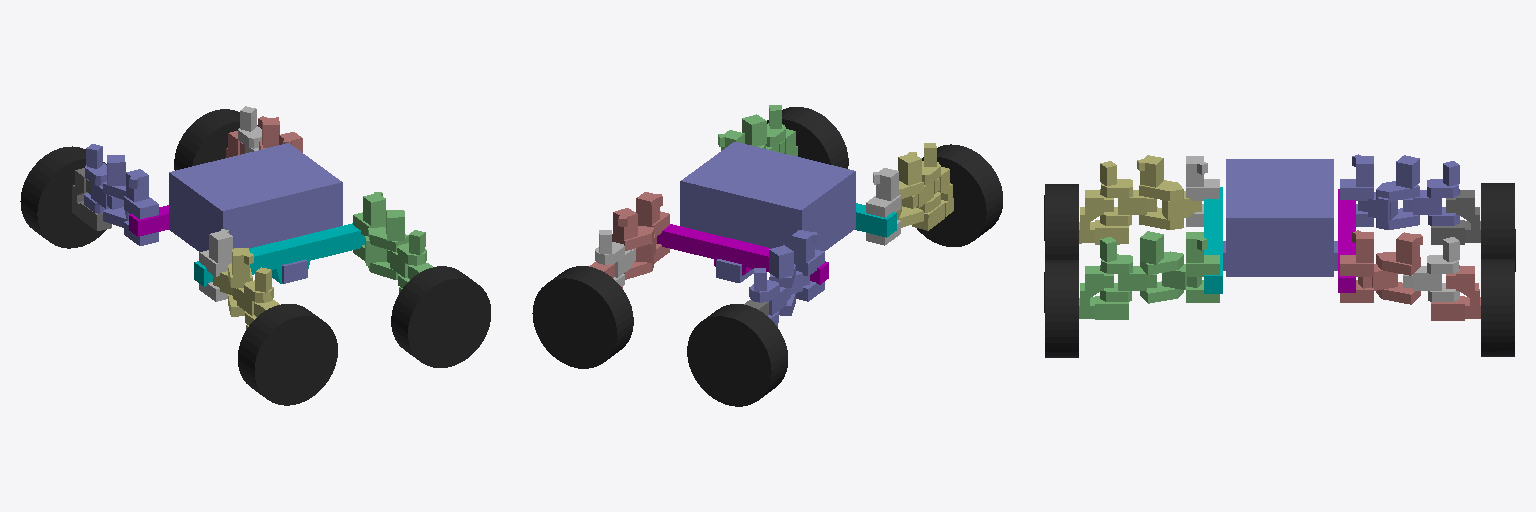
--- What the picture shows (computed from the rendered views, not written in the file) ---
3 views of the same robot in one strip: view 1: azimuth 30°, elevation 25°; view 2: azimuth 150°, elevation 25°; view 3: azimuth 270°, elevation 25° (orthographic).
Model rover_assembly with 24 links and 23 joints (12 revolute, 4 continuous, 7 fixed), rooted at world, posed every joint at zero.
Links seen in each view (by area): view 1: base, br_wheel_link, fr_wheel_link, bl_wheel_link, r_bogie_link, fl_wheel_link, fr_elbow_link, bl_shoulder_link, bl_wrist_link, br_shoulder_link, br_elbow_link, bl_elbow_link (+7 smaller); view 2: base, fl_wheel_link, bl_wheel_link, br_wheel_link, l_bogie_link, fr_wheel_link, fl_elbow_link, br_shoulder_link, bl_shoulder_link, bl_elbow_link, br_elbow_link, br_wrist_link (+7 smaller); view 3: base, fr_wheel_link, fl_wheel_link, br_elbow_link, br_wheel_link, bl_wheel_link, bl_elbow_link, fl_elbow_link, fr_elbow_link, fr_wrist_link, fl_wrist_link, br_wrist_link (+11 smaller).
Boxes of the visible links, x1,y1,x2,y2 form: base: (169,143,342,283); br_wheel_link: (238,304,337,405); fr_wheel_link: (391,266,490,367); bl_wheel_link: (20,146,106,248); r_bogie_link: (194,223,364,286); fl_wheel_link: (174,109,261,170); fr_elbow_link: (365,210,408,279); bl_shoulder_link: (124,169,158,245); bl_wrist_link: (84,144,123,213); br_shoulder_link: (199,229,232,301); br_elbow_link: (213,248,253,316); bl_elbow_link: (103,155,129,227); base: (680,142,855,282); fl_wheel_link: (532,266,633,368); bl_wheel_link: (687,304,787,406); br_wheel_link: (917,144,1002,246); l_bogie_link: (657,224,828,284); fr_wheel_link: (767,107,848,168); fl_elbow_link: (612,208,656,279); br_shoulder_link: (866,168,900,245); bl_shoulder_link: (791,230,824,301); bl_elbow_link: (769,245,809,315); br_elbow_link: (896,152,923,227); br_wrist_link: (902,143,940,212); base: (1223,159,1337,276); fr_wheel_link: (1044,260,1078,357); fl_wheel_link: (1481,259,1514,356); br_elbow_link: (1137,155,1201,229); br_wheel_link: (1044,184,1078,259); bl_wheel_link: (1481,183,1515,271); bl_elbow_link: (1358,155,1419,229); fl_elbow_link: (1358,232,1422,304); fr_elbow_link: (1140,231,1201,303); fr_wrist_link: (1100,237,1156,301); fl_wrist_link: (1403,237,1459,301); br_wrist_link: (1100,161,1156,225).
Bounding box of the posed robot: 0.9567 × 1.61 × 0.4738 m (x, y, z).
Meshes: 9 distinct files referenced, 23 mesh visuals loaded (9 binary STL).

The robot description file, URDF, robot "rover_assembly":
<?xml version="1.0" encoding="utf-8"?>
<!-- This URDF was automatically created by SolidWorks to URDF Exporter! Originally created by Stephen Brawner ([email redacted]) 
     Commit Version: 1.6.0-4-g7f85cfe  Build Version: 1.6.7995.38578
     For more information, please see http://wiki.ros.org/sw_urdf_exporter -->
<robot
  name="rover_assembly">
<link name="world"/>
  
   <joint name="world_base" type="fixed">
     <parent link="world"/>
     <child link="base"/>
     <origin rpy="0 0 0 " xyz="0.0 0.0 0.4"/>
   </joint> 
  <link
    name="base">
    <!-- <inertial> -->
      <origin
        xyz="-0.0050083 -2.0149E-05 -0.053451"
        rpy="0 0 0" />
      <mass
        value="4.5781" />
      <inertia
        ixx="0.038674"
        ixy="5.9776E-10"
        ixz="2.4096E-06"
        iyy="0.020715"
        iyz="-1.8275E-09"
        izz="0.054978" />
    <!-- </inertial> -->
    <visual>
      <origin
        xyz="0 0 0"
        rpy="0 0 0" />
      <geometry>
        <mesh
          filename="package://crawlr_description/meshes/base.STL" />
      </geometry>
      <material
        name="">
        <color
          rgba="0.5 0.5 0.75294 1" />
      </material>
    </visual>
    <collision>
      <origin
        xyz="0 0 0"
        rpy="0 0 0" />
      <geometry>
        <mesh
          filename="package://crawlr_description/meshes/base.STL" />
      </geometry>
    </collision>
  </link>
  <link
    name="l_bogie_link">
    <inertial>
      <origin
        xyz="3.3598E-06 -0.077499 0.016649"
        rpy="0 0 0" />
      <mass
        value="2.8349" />
      <inertia
        ixx="0.0026191"
        ixy="7.2171E-08"
        ixz="4.7117E-08"
        iyy="0.071285"
        iyz="-2.6638E-06"
        izz="0.07224" />
    </inertial>
    <visual>
      <origin
        xyz="0 0 0"
        rpy="0 0 0" />
      <geometry>
        <mesh
          filename="package://crawlr_description/meshes/l_bogie_link.STL" />
      </geometry>
      <material
        name="">
        <color
          rgba="0.75294 0 0.75294 1" />
      </material>
    </visual>
    <collision>
      <origin
        xyz="0 0 0"
        rpy="0 0 0" />
      <geometry>
        <mesh
          filename="package://crawlr_description/meshes/l_bogie_link.STL" />
      </geometry>
    </collision>
  </link>
  <joint
    name="l_base_joint"
    type="fixed">
    <origin
      xyz="0 0.20935 -0.1481"
      rpy="-1.5708 0 0" />
    <parent
      link="base" />
    <child
      link="l_bogie_link" />
    <axis
      xyz="0 0 0" />
    <limit
      lower="0"
      upper="0"
      effort="0"
      velocity="0" />
  </joint>
  <link
    name="fl_shoulder_link">
    <inertial>
      <origin
        xyz="-0.010937 9.135E-05 0.059437"
        rpy="0 0 0" />
      <mass
        value="1.9065" />
      <inertia
        ixx="0.0012855"
        ixy="5.6505E-06"
        ixz="-1.3808E-06"
        iyy="0.0013531"
        iyz="9.6822E-07"
        izz="0.0014564" />
    </inertial>
    <visual>
      <origin
        xyz="0 0 0"
        rpy="0 0 0" />
      <geometry>
        <mesh
          filename="package://crawlr_description/meshes/shoulder_link.STL" />
      </geometry>
      <material
        name="">
        <color
          rgba="0.75294 0.5 0.5 1" />
      </material>
    </visual>
    <collision>
      <origin
        xyz="0 0 0"
        rpy="0 0 0" />
      <geometry>
        <mesh
          filename="package://crawlr_description/meshes/shoulder_link.STL" />
      </geometry>
    </collision>
  </link>
  <joint
    name="fl_bogie_joint"
    type="fixed">
    <origin
      xyz="0.3069 -0.06175 0.081"
      rpy="1.5708 -1.5708 0" />
    <parent
      link="l_bogie_link" />
    <child
      link="fl_shoulder_link" />
    <axis
      xyz="0 0 0" />
  </joint>
  <link
    name="fl_elbow_link">
    <inertial>
      <origin
        xyz="0.11588 0.008896 0.029833"
        rpy="0 0 0" />
      <mass
        value="2.4303" />
      <inertia
        ixx="0.0015624"
        ixy="8.7889E-05"
        ixz="1.313E-06"
        iyy="0.0017596"
        iyz="4.7085E-07"
        izz="0.001894" />
    </inertial>
    <visual>
      <origin
        xyz="0 0 0"
        rpy="0 0 0" />
      <geometry>
        <mesh
          filename="package://crawlr_description/meshes/elbow_link_br_fl.STL" />
      </geometry>
      <material
        name="">
        <color
          rgba="0.75294 0.5 0.5 1" />
      </material>
    </visual>
    <collision>
      <origin
        xyz="0.001 0 0"
        rpy="0 0 0" />
      <geometry>
        <mesh
          filename="package://crawlr_description/meshes/elbow_link_br_fl.STL" />
      </geometry>
    </collision>
  </link>
  <joint
    name="fl_shoulder_joint"
    type="revolute">
    <origin
      xyz="0 0 0"
      rpy="0 0 0" />
    <parent
      link="fl_shoulder_link" />
    <child
      link="fl_elbow_link" />
    <axis
      xyz="0 0 1" />
    <limit
      lower="-3.1415"
      upper="3.1415"
      effort="100"
      velocity="1300" />
  </joint>
  <link
    name="fl_wrist_link">
    <inertial>
      <origin
        xyz="0.106490210749518 0.000186854919416335 0.0418635367506254"
        rpy="0 0 0" />
      <mass
        value="1.65982904359117" />
      <inertia
        ixx="0.000936027651453804"
        ixy="-3.13677263034653E-06"
        ixz="-1.37429223301743E-05"
        iyy="0.00092500461674148"
        iyz="-5.13687277242434E-07"
        izz="0.00105495924116808" />
    </inertial>
    <visual>
      <origin
        xyz="0 0 0"
        rpy="0 0 0" />
      <geometry>
        <mesh
          filename="package://crawlr_description/meshes/wrist_link.STL" />
      </geometry>
      <material
        name="">
        <color
          rgba="0.752941176470588 0.752941176470588 0.752941176470588 1" />
      </material>
    </visual>
    <collision>
      <origin
        xyz="0 0 0"
        rpy="0 0 0" />
      <geometry>
        <mesh
          filename="package://crawlr_description/meshes/wrist_link.STL" />
      </geometry>
    </collision>
  </link>
  <joint
    name="fl_elbow_joint"
    type="revolute">
    <origin
      xyz="0.14704 0 0"
      rpy="0 0 0" />
    <parent
      link="fl_elbow_link" />
    <child
      link="fl_wrist_link" />
    <axis
      xyz="0 0 1" />
    <limit
      lower="-3.1415"
      upper="3.1415"
      effort="100"
      velocity="1300" />
  </joint>
  <link
    name="fl_hand_link">
    <inertial>
      <origin
        xyz="0.034849 -0.00010605 -0.084186"
        rpy="0 0 0" />
      <mass
        value="2.3674" />
      <inertia
        ixx="0.0012901"
        ixy="1.2682E-06"
        ixz="5.552E-05"
        iyy="0.0013835"
        iyz="-5.9325E-06"
        izz="0.0011948" />
    </inertial>
    <visual>
      <origin
        xyz="0 0 0"
        rpy="0 0 0" />
      <geometry>
        <mesh
          filename="package://crawlr_description/meshes/hand_link.STL" />
      </geometry>
      <material
        name="">
        <color
          rgba="0.75294 0.5 0.5 1" />
      </material>
    </visual>
    <collision>
      <origin
        xyz="0 0 0"
        rpy="0 0 0" />
      <geometry>
        <mesh
          filename="package://crawlr_description/meshes/hand_link.STL" />
      </geometry>
    </collision>
  </link>
  <joint
    name="fl_wrist_joint"
    type="revolute">
    <origin
      xyz="0.14655 0 0"
      rpy="0 0 0" />
    <parent
      link="fl_wrist_link" />
    <child
      link="fl_hand_link" />
    <axis
      xyz="0 0 1" />
    <limit
      lower="-3.1415"
      upper="3.14"
      effort="100"
      velocity="1300" />
  </joint>
  <link
    name="fl_wheel_link">
    <inertial>
      <origin
        xyz="0.016725 -0.6138 1.4888"
        rpy="0 0 0" />
      <mass
        value="3.5001" />
      <inertia
        ixx="0.028476"
        ixy="1.4496E-14"
        ixz="-2.7765E-11"
        iyy="0.028476"
        iyz="7.9856E-11"
        izz="0.050581" />
    </inertial>
    <visual>
      <origin
        xyz="0 0 0"
        rpy="0 0 0" />
      <geometry>
        <mesh
          filename="package://crawlr_description/meshes/wheel_link.STL" />
      </geometry>
      <material
        name="">
        <color
          rgba="0.2 0.2 0.2 1" />
      </material>
    </visual>
    <collision>
      <origin
        xyz="0 0 0"
        rpy="0 0 0" />
      <geometry>
        <mesh
          filename="package://crawlr_description/meshes/wheel_link.STL" />
      </geometry>
    </collision>
  </link>
  <joint
    name="fl_hand_joint"
    type="continuous">
    <origin
      xyz="0.16086 0 -0.111"
      rpy="0 1.5707 0" />
    <parent
      link="fl_hand_link" />
    <child
      link="fl_wheel_link" />
    <axis
      xyz="0 0 1" />
    <limit
      effort="0"
      velocity="4000" />
  </joint>
  <link
    name="bl_shoulder_link">
    <inertial>
      <origin
        xyz="-0.010942 9.135E-05 0.059436"
        rpy="0 0 0" />
      <mass
        value="1.9065" />
      <inertia
        ixx="0.0012855"
        ixy="5.6504E-06"
        ixz="-1.397E-06"
        iyy="0.0013531"
        iyz="9.6876E-07"
        izz="0.0014564" />
    </inertial>
    <visual>
      <origin
        xyz="0 0 0"
        rpy="0 0 0" />
      <geometry>
        <mesh
          filename="package://crawlr_description/meshes/shoulder_link.STL" />
      </geometry>
      <material
        name="">
        <color
          rgba="0.5 0.5 0.75294 1" />
      </material>
    </visual>
    <collision>
      <origin
        xyz="0 0 0"
        rpy="0 0 0" />
      <geometry>
        <mesh
          filename="package://crawlr_description/meshes/shoulder_link.STL" />
      </geometry>
    </collision>
  </link>
  <joint
    name="bl_bogie_joint"
    type="fixed">
    <origin
      xyz="-0.3069 -0.06175 0.081"
      rpy="0 -1.5707 1.5708" />
    <parent
      link="l_bogie_link" />
    <child
      link="bl_shoulder_link" />
    <axis
      xyz="0 0 0" />
  </joint>
  <link
    name="bl_elbow_link">
    <inertial>
      <origin
        xyz="0.1159 -0.0089217 0.046898"
        rpy="0 0 0" />
      <mass
        value="2.4303" />
      <inertia
        ixx="0.0015632"
        ixy="-8.7077E-05"
        ixz="1.1741E-06"
        iyy="0.0017587"
        iyz="-7.1639E-07"
        izz="0.001894" />
    </inertial>
    <visual>
      <origin
        xyz="0 0 0"
        rpy="0 0 0" />
      <geometry>
        <mesh
          filename="package://crawlr_description/meshes/elbow_link_bl_fr.STL" />
      </geometry>
      <material
        name="">
        <color
          rgba="0.5 0.5 0.75294 1" />
      </material>
    </visual>
    <collision>
      <origin
        xyz="0 0 0"
        rpy="0 0 0" />
      <geometry>
        <mesh
          filename="package://crawlr_description/meshes/elbow_link_bl_fr.STL" />
      </geometry>
    </collision>
  </link>
  <joint
    name="bl_shoulder_joint"
    type="revolute">
    <origin
      xyz="0 0 0"
      rpy="0 0 0" />
    <parent
      link="bl_shoulder_link" />
    <child
      link="bl_elbow_link" />
    <axis
      xyz="0 0 1" />
    <limit
      lower="-3.1415"
      upper="3.14"
      effort="100"
      velocity="1300" />
  </joint>
  <link
    name="bl_wrist_link">
    <inertial>
      <origin
        xyz="0.11054 0.00018685 0.02956"
        rpy="0 0 0" />
      <mass
        value="1.6598" />
      <inertia
        ixx="0.00093446"
        ixy="-3.1747E-06"
        ixz="-3.6605E-08"
        iyy="0.000925"
        iyz="-1.5589E-07"
        izz="0.0010565" />
    </inertial>
    <visual>
      <origin
        xyz="0 0 0"
        rpy="0 0 0" />
      <geometry>
        <mesh
          filename="package://crawlr_description/meshes/wrist_link.STL" />
      </geometry>
      <material
        name="">
        <color
          rgba="0.5 0.5 0.75294 1" />
      </material>
    </visual>
    <collision>
      <origin
        xyz="0 0 0"
        rpy="0 0 0" />
      <geometry>
        <mesh
          filename="package://crawlr_description/meshes/wrist_link.STL" />
      </geometry>
    </collision>
  </link>
  <joint
    name="bl_elbow_joint"
    type="revolute">
    <origin
      xyz="0.14704 0 0"
      rpy="0 0 0" />
    <parent
      link="bl_elbow_link" />
    <child
      link="bl_wrist_link" />
    <axis
      xyz="0 0 1" />
    <limit
      lower="-3.1415"
      upper="3.1415"
      effort="100"
      velocity="1300" />
  </joint>
  <link
    name="bl_hand_link">
    <inertial>
      <origin
        xyz="0.034849 -0.00010605 -0.084186"
        rpy="0 0 0" />
      <mass
        value="2.3674" />
      <inertia
        ixx="0.0012901"
        ixy="1.2682E-06"
        ixz="5.552E-05"
        iyy="0.0013835"
        iyz="-5.9325E-06"
        izz="0.0011948" />
    </inertial>
    <visual>
      <origin
        xyz="0 0 0"
        rpy="0 0 0" />
      <geometry>
        <mesh
          filename="package://crawlr_description/meshes/hand_link.STL" />
      </geometry>
      <material
        name="">
        <color
          rgba="0.5 0.5 0.5 1" />
      </material>
    </visual>
    <collision>
      <origin
        xyz="0 0 0"
        rpy="0 0 0" />
      <geometry>
        <mesh
          filename="package://crawlr_description/meshes/hand_link.STL" />
      </geometry>
    </collision>
  </link>
  <joint
    name="bl_wrist_joint"
    type="revolute">
    <origin
      xyz="0.1475 0 0"
      rpy="0 0 0" />
    <parent
      link="bl_wrist_link" />
    <child
      link="bl_hand_link" />
    <axis
      xyz="0 0 1" />
    <limit
      lower="-3.1415"
      upper="3.14"
      effort="100"
      velocity="1300" />
  </joint>
  <link
    name="bl_wheel_link">
    <inertial>
      <origin
        xyz="-7.8813E-11 9.7847E-11 -0.00089592"
        rpy="0 0 0" />
      <mass
        value="3.5001" />
      <inertia
        ixx="0.028476"
        ixy="1.3227E-14"
        ixz="-7.0655E-11"
        iyy="0.028476"
        iyz="-4.3974E-11"
        izz="0.050581" />
    </inertial>
    <visual>
      <origin
        xyz="0 0 0"
        rpy="0 0 0" />
      <geometry>
        <mesh
          filename="package://crawlr_description/meshes/wheel_link.STL" />
      </geometry>
      <material
        name="">
        <color
          rgba="0.2 0.2 0.2 1" />
      </material>
    </visual>
    <collision>
      <origin
        xyz="0 0 0"
        rpy="0 0 0" />
      <geometry>
        <mesh
          filename="package://crawlr_description/meshes/wheel_link.STL" />
      </geometry>
    </collision>
  </link>
  <joint
    name="bl_hand_joint"
    type="continuous">
    <origin
      xyz="0.16086 0 -0.111"
      rpy="0 1.5707 0" />
    <parent
      link="bl_hand_link" />
    <child
      link="bl_wheel_link" />
    <axis
      xyz="0 0 1" />
    <limit
      effort="0"
      velocity="4000" />
  </joint>
  <link
    name="r_bogie_link">
    <inertial>
      <origin
        xyz="-3.3638E-06 0.077499 0.016649"
        rpy="0 0 0" />
      <mass
        value="2.8349" />
      <inertia
        ixx="0.0026191"
        ixy="7.1709E-08"
        ixz="-4.7077E-08"
        iyy="0.071285"
        iyz="2.6638E-06"
        izz="0.07224" />
    </inertial>
    <visual>
      <origin
        xyz="0 0 0"
        rpy="0 0 0" />
      <geometry>
        <mesh
          filename="package://crawlr_description/meshes/r_bogie_link.STL" />
      </geometry>
      <material
        name="">
        <color
          rgba="0 0.75294 0.75294 1" />
      </material>
    </visual>
    <collision>
      <origin
        xyz="0 0 0"
        rpy="0 0 0" />
      <geometry>
        <mesh
          filename="package://crawlr_description/meshes/r_bogie_link.STL" />
      </geometry>
    </collision>
  </link>
  <joint
    name="r_base_joint"
    type="fixed">
    <origin
      xyz="0 -0.20935 -0.1481"
      rpy="1.5708 0 0" />
    <parent
      link="base" />
    <child
      link="r_bogie_link" />
    <axis
      xyz="0 0 0" />
    <limit
      lower="-3.1415"
      upper="3.1415"
      effort="0"
      velocity="0" />
  </joint>
  <link
    name="fr_shoulder_link">
    <inertial>
      <origin
        xyz="-0.010937 9.135E-05 0.059437"
        rpy="0 0 0" />
      <mass
        value="1.9065" />
      <inertia
        ixx="0.0012855"
        ixy="5.6505E-06"
        ixz="-1.3808E-06"
        iyy="0.0013531"
        iyz="9.6822E-07"
        izz="0.0014564" />
    </inertial>
    <visual>
      <origin
        xyz="0 0 0"
        rpy="0 0 0" />
      <geometry>
        <mesh
          filename="package://crawlr_description/meshes/shoulder_link.STL" />
      </geometry>
      <material
        name="">
        <color
          rgba="0.5 0.75294 0.5 1" />
      </material>
    </visual>
    <collision>
      <origin
        xyz="0 0 0"
        rpy="0 0 0" />
      <geometry>
        <mesh
          filename="package://crawlr_description/meshes/shoulder_link.STL" />
      </geometry>
    </collision>
  </link>
  <joint
    name="fr_bogie_joint"
    type="fixed">
    <origin
      xyz="0.3069 0.06175 0.081"
      rpy="-1.5708 -1.5708 0" />
    <parent
      link="r_bogie_link" />
    <child
      link="fr_shoulder_link" />
    <axis
      xyz="0 0 0" />
  </joint>
  <link
    name="fr_elbow_link">
    <inertial>
      <origin
        xyz="0.11591 -0.0089217 0.046914"
        rpy="0 0 0" />
      <mass
        value="2.4303" />
      <inertia
        ixx="0.0015632"
        ixy="-8.7077E-05"
        ixz="1.2056E-06"
        iyy="0.0017587"
        iyz="-7.081E-07"
        izz="0.001894" />
    </inertial>
    <visual>
      <origin
        xyz="0 0 0"
        rpy="0 0 0" />
      <geometry>
        <mesh
          filename="package://crawlr_description/meshes/elbow_link_bl_fr.STL" />
      </geometry>
      <material
        name="">
        <color
          rgba="0.5 0.75294 0.5 1" />
      </material>
    </visual>
    <collision>
      <origin
        xyz="0 0 0"
        rpy="0 0 0" />
      <geometry>
        <mesh
          filename="package://crawlr_description/meshes/elbow_link_bl_fr.STL" />
      </geometry>
    </collision>
  </link>
  <joint
    name="fr_shoulder_joint"
    type="revolute">
    <origin
      xyz="0 0 0"
      rpy="0 0 0" />
    <parent
      link="fr_shoulder_link" />
    <child
      link="fr_elbow_link" />
    <axis
      xyz="0 0 -1" />
    <limit
      lower="-3.1415"
      upper="3.1415"
      effort="100"
      velocity="1300" />
  </joint>
  <link
    name="fr_wrist_link">
    <inertial>
      <origin
        xyz="0.11054 0.00018685 0.029539"
        rpy="0 0 0" />
      <mass
        value="1.6598" />
      <inertia
        ixx="0.00093446"
        ixy="-3.1748E-06"
        ixz="-1.336E-08"
        iyy="0.000925"
        iyz="-1.5528E-07"
        izz="0.0010565" />
    </inertial>
    <visual>
      <origin
        xyz="0 0 0"
        rpy="0 0 0" />
      <geometry>
        <mesh
          filename="package://crawlr_description/meshes/wrist_link.STL" />
      </geometry>
      <material
        name="">
        <color
          rgba="0.5 0.75294 0.5 1" />
      </material>
    </visual>
    <collision>
      <origin
        xyz="0 0 0"
        rpy="0 0 0" />
      <geometry>
        <mesh
          filename="package://crawlr_description/meshes/wrist_link.STL" />
      </geometry>
    </collision>
  </link>
  <joint
    name="fr_elbow_joint"
    type="revolute">
    <origin
      xyz="0.14704 0 0"
      rpy="0 0 0" />
    <parent
      link="fr_elbow_link" />
    <child
      link="fr_wrist_link" />
    <axis
      xyz="0 0 1" />
    <limit
      lower="-3.1415"
      upper="3.1415"
      effort="100"
      velocity="1300" />
  </joint>
  <link
    name="fr_hand_link">
    <inertial>
      <origin
        xyz="0.034849 -0.00010605 -0.084186"
        rpy="0 0 0" />
      <mass
        value="2.3674" />
      <inertia
        ixx="0.0012901"
        ixy="1.2682E-06"
        ixz="5.552E-05"
        iyy="0.0013835"
        iyz="-5.9325E-06"
        izz="0.0011948" />
    </inertial>
    <visual>
      <origin
        xyz="0 0 0"
        rpy="0 0 0" />
      <geometry>
        <mesh
          filename="package://crawlr_description/meshes/hand_link.STL" />
      </geometry>
      <material
        name="">
        <color
          rgba="0.5 0.75294 0.5 1" />
      </material>
    </visual>
    <collision>
      <origin
        xyz="0 0 0"
        rpy="0 0 0" />
      <geometry>
        <mesh
          filename="package://crawlr_description/meshes/hand_link.STL" />
      </geometry>
    </collision>
  </link>
  <joint
    name="fr_wrist_joint"
    type="revolute">
    <origin
      xyz="0.1475 0 0"
      rpy="0 0 0" />
    <parent
      link="fr_wrist_link" />
    <child
      link="fr_hand_link" />
    <axis
      xyz="0 0 1" />
    <limit
      lower="-3.1415"
      upper="3.14"
      effort="100"
      velocity="1300" />
  </joint>
  <link
    name="fr_wheel_link">
    <inertial>
      <origin
        xyz="1.1459E-10 5.62E-11 -0.0026719"
        rpy="0 0 0" />
      <mass
        value="3.5001" />
      <inertia
        ixx="0.028476"
        ixy="1.4518E-14"
        ixz="-2.7765E-11"
        iyy="0.028476"
        iyz="7.9856E-11"
        izz="0.050581" />
    </inertial>
    <visual>
      <origin
        xyz="0 0 0"
        rpy="0 0 0" />
      <geometry>
        <mesh
          filename="package://crawlr_description/meshes/wheel_link.STL" />
      </geometry>
      <material
        name="">
        <color
          rgba="0.2 0.2 0.2 1" />
      </material>
    </visual>
    <collision>
      <origin
        xyz="0 0 0"
        rpy="0 0 0" />
      <geometry>
        <mesh
          filename="package://crawlr_description/meshes/wheel_link.STL" />
      </geometry>
    </collision>
  </link>
  <joint
    name="fr_hand_joint"
    type="continuous">
    <origin
      xyz="0.16086 0 -0.111"
      rpy="0 1.5707 0" />
    <parent
      link="fr_hand_link" />
    <child
      link="fr_wheel_link" />
    <axis
      xyz="0 0 1" />
    <limit
      effort="0"
      velocity="4000" />
  </joint>
  <link
    name="br_shoulder_link">
    <inertial>
      <origin
        xyz="-0.010931 9.135E-05 0.059438"
        rpy="0 0 0" />
      <mass
        value="1.9065" />
      <inertia
        ixx="0.0012855"
        ixy="5.6506E-06"
        ixz="-1.3645E-06"
        iyy="0.0013531"
        iyz="9.6769E-07"
        izz="0.0014564" />
    </inertial>
    <visual>
      <origin
        xyz="0 0 0"
        rpy="0 0 0" />
      <geometry>
        <mesh
          filename="package://crawlr_description/meshes/shoulder_link.STL" />
      </geometry>
      <material
        name="">
        <color
          rgba="0.75294 0.75294 0.75294 1" />
      </material>
    </visual>
    <collision>
      <origin
        xyz="0 0 0"
        rpy="0 0 0" />
      <geometry>
        <mesh
          filename="package://crawlr_description/meshes/shoulder_link.STL" />
      </geometry>
    </collision>
  </link>
  <joint
    name="br_bogie_joint"
    type="fixed">
    <origin
      xyz="-0.3069 0.06175 0.081"
      rpy="-3.1416 -1.5707 1.5708" />
    <parent
      link="r_bogie_link" />
    <child
      link="br_shoulder_link" />
    <axis
      xyz="0 0 0" />
  </joint>
  <link
    name="br_elbow_link">
    <inertial>
      <origin
        xyz="0.11588 0.008896 0.046547"
        rpy="0 0 0" />
      <mass
        value="2.4303" />
      <inertia
        ixx="0.0015624"
        ixy="8.7889E-05"
        ixz="1.3446E-06"
        iyy="0.0017596"
        iyz="4.6248E-07"
        izz="0.001894" />
    </inertial>
    <visual>
      <origin
        xyz="0 0 0"
        rpy="0 0 0" />
      <geometry>
        <mesh
          filename="package://crawlr_description/meshes/elbow_link_br_fl.STL" />
      </geometry>
      <material
        name="">
        <color
          rgba="0.75294 0.75294 0.5 1" />
      </material>
    </visual>
    <collision>
      <origin
        xyz="0.002 0 0"
        rpy="0 0 0" />
      <geometry>
        <mesh
          filename="package://crawlr_description/meshes/elbow_link_br_fl.STL" />
      </geometry>
    </collision>
  </link>
  <joint
    name="br_shoulder_joint"
    type="revolute">
    <origin
      xyz="0 0 0"
      rpy="0 0 0" />
    <parent
      link="br_shoulder_link" />
    <child
      link="br_elbow_link" />
    <axis
      xyz="0 0 -1" />
    <limit
      lower="-3.1415"
      upper="3.1415"
      effort="100"
      velocity="1300" />
  </joint>
  <link
    name="br_wrist_link">
    <inertial>
      <origin
        xyz="0.11054 0.00018685 0.02956"
        rpy="0 0 0" />
      <mass
        value="1.6598" />
      <inertia
        ixx="0.00093446"
        ixy="-3.1747E-06"
        ixz="-3.6606E-08"
        iyy="0.000925"
        iyz="-1.5589E-07"
        izz="0.0010565" />
    </inertial>
    <visual>
      <origin
        xyz="0 0 0"
        rpy="0 0 0" />
      <geometry>
        <mesh
          filename="package://crawlr_description/meshes/wrist_link.STL" />
      </geometry>
      <material
        name="">
        <color
          rgba="0.75294 0.75294 0.5 1" />
      </material>
    </visual>
    <collision>
      <origin
        xyz="0 0 0"
        rpy="0 0 0" />
      <geometry>
        <mesh
          filename="package://crawlr_description/meshes/wrist_link.STL" />
      </geometry>
    </collision>
  </link>
  <joint
    name="br_elbow_joint"
    type="revolute">
    <origin
      xyz="0.14704 0 0"
      rpy="0 0 0" />
    <parent
      link="br_elbow_link" />
    <child
      link="br_wrist_link" />
    <axis
      xyz="0 0 1" />
    <limit
      lower="-3.1415"
      upper="3.1415"
      effort="100"
      velocity="1300" />
  </joint>
  <link
    name="br_hand_link">
    <inertial>
      <origin
        xyz="0.034849 -0.00010605 -0.084186"
        rpy="0 0 0" />
      <mass
        value="2.3674" />
      <inertia
        ixx="0.0012901"
        ixy="1.2682E-06"
        ixz="5.552E-05"
        iyy="0.0013835"
        iyz="-5.9325E-06"
        izz="0.0011948" />
    </inertial>
    <visual>
      <origin
        xyz="0 0 0"
        rpy="0 0 0" />
      <geometry>
        <mesh
          filename="package://crawlr_description/meshes/hand_link.STL" />
      </geometry>
      <material
        name="">
        <color
          rgba="0.75294 0.75294 0.5 1" />
      </material>
    </visual>
    <collision>
      <origin
        xyz="0 0 0"
        rpy="0 0 0" />
      <geometry>
        <mesh
          filename="package://crawlr_description/meshes/hand_link.STL" />
      </geometry>
    </collision>
  </link>
  <joint
    name="br_wrist_joint"
    type="revolute">
    <origin
      xyz="0.1475 0 0"
      rpy="0 0 0" />
    <parent
      link="br_wrist_link" />
    <child
      link="br_hand_link" />
    <axis
      xyz="0 0 1" />
    <limit
      lower="-3.1415"
      upper="3.14"
      effort="100"
      velocity="1300" />
  </joint>
  <link
    name="br_wheel_link">
    <inertial>
      <origin
        xyz="-5.62E-11 1.1459E-10 -0.0026719"
        rpy="0 0 0" />
      <mass
        value="3.5001" />
      <inertia
        ixx="0.028476"
        ixy="-1.4514E-14"
        ixz="-7.9856E-11"
        iyy="0.028476"
        iyz="-2.7765E-11"
        izz="0.050581" />
    </inertial>
    <visual>
      <origin
        xyz="0 0 0"
        rpy="0 0 0" />
      <geometry>
        <mesh
          filename="package://crawlr_description/meshes/wheel_link.STL" />
      </geometry>
      <material
        name="">
        <color
          rgba="0.2 0.2 0.2 1" />
      </material>
    </visual>
    <collision>
      <origin
        xyz="0 0 0"
        rpy="0 0 0" />
      <geometry>
        <mesh
          filename="package://crawlr_description/meshes/wheel_link.STL" />
      </geometry>
    </collision>
  </link>
  <joint
    name="br_hand_joint"
    type="continuous">
    <origin
      xyz="0.16086 0 -0.111"
      rpy="0 1.5707 0" />
    <parent
      link="br_hand_link" />
    <child
      link="br_wheel_link" />
    <axis
      xyz="0 0 1" />
    <limit
      effort="0"
      velocity="4000" />
  </joint>
  
  
  
  
  
  <transmission name="fl_trans_shoulder_joint">
        <type>transmission_interface/SimpleTransmission</type>
        <joint name="fl_shoulder_joint">
            <hardwareInterface>hardware_interface/PositionJointInterface</hardwareInterface>
            <hardwareInterface>hardware_interface/VelocityJointInterface</hardwareInterface>
        </joint>
        <actuator name="fl_shoulder_joint_motor">
            <hardwareInterface>hardware_interface/PositionJointInterface</hardwareInterface>
            <hardwareInterface>hardware_interface/VelocityJointInterface</hardwareInterface>
            <mechanicalReduction>1</mechanicalReduction>
        </actuator>
    </transmission>
    
    
    
    
    
    <transmission name="fl_trans_elbow_joint">
        <type>transmission_interface/SimpleTransmission</type>
        <joint name="fl_elbow_joint">
            <hardwareInterface>hardware_interface/PositionJointInterface</hardwareInterface>
            <hardwareInterface>hardware_interface/VelocityJointInterface</hardwareInterface>
        </joint>
        <actuator name="fl_elbow_joint_motor">
            <hardwareInterface>hardware_interface/PositionJointInterface</hardwareInterface>
            <hardwareInterface>hardware_interface/VelocityJointInterface</hardwareInterface>
            <mechanicalReduction>1</mechanicalReduction>
        </actuator>
    </transmission>
    
    
    
    
    
    <transmission name="fl_trans_wrist_joint">
        <type>transmission_interface/SimpleTransmission</type>
        <joint name="fl_wrist_joint">
            <hardwareInterface>hardware_interface/PositionJointInterface</hardwareInterface>
            <hardwareInterface>hardware_interface/VelocityJointInterface</hardwareInterface>
        </joint>
        <actuator name="fl_wrist_joint_motor">
            <hardwareInterface>hardware_interface/PositionJointInterface</hardwareInterface>
            <hardwareInterface>hardware_interface/VelocityJointInterface</hardwareInterface>
            <mechanicalReduction>1</mechanicalReduction>
        </actuator>
    </transmission>
    
    
    
    
    
    
    <transmission name="fl_trans_hand_joint">
        <type>transmission_interface/SimpleTransmission</type>
        <joint name="fl_hand_joint">
            <hardwareInterface>hardware_interface/VelocityJointInterface</hardwareInterface>
            <hardwareInterface>hardware_interface/PositionJointInterface</hardwareInterface>
        </joint>
        <actuator name="fl_hand_joint_motor">
            <hardwareInterface>hardware_interface/VelocityJointInterface</hardwareInterface>
            <hardwareInterface>hardware_interface/VelocityJointInterface</hardwareInterface>
            <mechanicalReduction>1</mechanicalReduction>
        </actuator>
    </transmission>
    
    
  <transmission name="fr_trans_shoulder_joint">
        <type>transmission_interface/SimpleTransmission</type>
        <joint name="fr_shoulder_joint">
            <hardwareInterface>hardware_interface/PositionJointInterface</hardwareInterface>
            <hardwareInterface>hardware_interface/VelocityJointInterface</hardwareInterface>
        </joint>
        <actuator name="fr_shoulder_joint_motor">
            <hardwareInterface>hardware_interface/PositionJointInterface</hardwareInterface>
            <hardwareInterface>hardware_interface/VelocityJointInterface</hardwareInterface>
            <mechanicalReduction>1</mechanicalReduction>
        </actuator>
    </transmission>
    
    
    
    
    
    <transmission name="fr_trans_elbow_joint">
        <type>transmission_interface/SimpleTransmission</type>
        <joint name="fr_elbow_joint">
            <hardwareInterface>hardware_interface/PositionJointInterface</hardwareInterface>
            <hardwareInterface>hardware_interface/VelocityJointInterface</hardwareInterface>
        </joint>
        <actuator name="fr_elbow_joint_motor">
            <hardwareInterface>hardware_interface/PositionJointInterface</hardwareInterface>
            <hardwareInterface>hardware_interface/VelocityJointInterface</hardwareInterface>
            <mechanicalReduction>1</mechanicalReduction>
        </actuator>
    </transmission>
    
    
    
    
    
    
    <transmission name="fr_trans_wrist_joint">
        <type>transmission_interface/SimpleTransmission</type>
        <joint name="fr_wrist_joint">
            <hardwareInterface>hardware_interface/PositionJointInterface</hardwareInterface>
            <hardwareInterface>hardware_interface/VelocityJointInterface</hardwareInterface>
        </joint>
        <actuator name="fr_wrist_joint_motor">
            <hardwareInterface>hardware_interface/PositionJointInterface</hardwareInterface>
            <hardwareInterface>hardware_interface/VelocityJointInterface</hardwareInterface>
            <mechanicalReduction>1</mechanicalReduction>
        </actuator>
    </transmission>
    
    
    
    
    
    
    <transmission name="fr_trans_hand_joint">
        <type>transmission_interface/SimpleTransmission</type>
        <joint name="fr_hand_joint">
            <hardwareInterface>hardware_interface/VelocityJointInterface</hardwareInterface>
            <hardwareInterface>hardware_interface/PositionJointInterface</hardwareInterface>
        </joint>
        <actuator name="fr_hand_joint_motor">
            <hardwareInterface>hardware_interface/VelocityJointInterface</hardwareInterface>
            <hardwareInterface>hardware_interface/VelocityJointInterface</hardwareInterface>
            <mechanicalReduction>1</mechanicalReduction>
        </actuator>
    </transmission>



    
    <transmission name="bl_trans_shoulder_joint">
        <type>transmission_interface/SimpleTransmission</type>
        <joint name="bl_shoulder_joint">
            <hardwareInterface>hardware_interface/PositionJointInterface</hardwareInterface>
            <hardwareInterface>hardware_interface/VelocityJointInterface</hardwareInterface>
        </joint>
        <actuator name="bl_shoulder_joint_motor">
            <hardwareInterface>hardware_interface/PositionJointInterface</hardwareInterface>
            <hardwareInterface>hardware_interface/VelocityJointInterface</hardwareInterface>
            <mechanicalReduction>1</mechanicalReduction>
        </actuator>
    </transmission>
    
    
    
    
    
    
    
    
    <transmission name="bl_trans_elbow_joint">
        <type>transmission_interface/SimpleTransmission</type>
        <joint name="bl_elbow_joint">
            <hardwareInterface>hardware_interface/PositionJointInterface</hardwareInterface>
            <hardwareInterface>hardware_interface/VelocityJointInterface</hardwareInterface>
        </joint>
        <actuator name="bl_elbow_joint_motor">
            <hardwareInterface>hardware_interface/PositionJointInterface</hardwareInterface>
            <hardwareInterface>hardware_interface/VelocityJointInterface</hardwareInterface>
            <mechanicalReduction>1</mechanicalReduction>
        </actuator>
    </transmission>
    
    
    
    
    
    <transmission name="bl_trans_wrist_joint">
        <type>transmission_interface/SimpleTransmission</type>
        <joint name="bl_wrist_joint">
            <hardwareInterface>hardware_interface/PositionJointInterface</hardwareInterface>
            <hardwareInterface>hardware_interface/VelocityJointInterface</hardwareInterface>
        </joint>
        <actuator name="bl_wrist_joint_motor">
            <hardwareInterface>hardware_interface/PositionJointInterface</hardwareInterface>
            <hardwareInterface>hardware_interface/VelocityJointInterface</hardwareInterface>
            <mechanicalReduction>1</mechanicalReduction>
        </actuator>
    </transmission>
    
    
    
    
    
    <transmission name="bl_trans_hand_joint">
        <type>transmission_interface/SimpleTransmission</type>
        <joint name="bl_hand_joint">
            <hardwareInterface>hardware_interface/VelocityJointInterface</hardwareInterface>
            <hardwareInterface>hardware_interface/VelocityJointInterface</hardwareInterface>
        </joint>
        <actuator name="bl_hand_joint_motor">
            <hardwareInterface>hardware_interface/VelocityJointInterface</hardwareInterface>
            <hardwareInterface>hardware_interface/VelocityJointInterface</hardwareInterface>
            <mechanicalReduction>1</mechanicalReduction>
        </actuator>
    </transmission>

  
    <transmission name="br_trans_shoulder_joint">
        <type>transmission_interface/SimpleTransmission</type>
        <joint name="br_shoulder_joint">
            <hardwareInterface>hardware_interface/PositionJointInterface</hardwareInterface>
            <hardwareInterface>hardware_interface/VelocityJointInterface</hardwareInterface>
        </joint>
        <actuator name="br_shoulder_joint_motor">
            <hardwareInterface>hardware_interface/PositionJointInterface</hardwareInterface>
            <hardwareInterface>hardware_interface/VelocityJointInterface</hardwareInterface>
            <mechanicalReduction>1</mechanicalReduction>
        </actuator>
    </transmission>
    
    
    
    <transmission name="br_trans_elbow_joint">
        <type>transmission_interface/SimpleTransmission</type>
        <joint name="br_elbow_joint">
            <hardwareInterface>hardware_interface/PositionJointInterface</hardwareInterface>
            <hardwareInterface>hardware_interface/VelocityJointInterface</hardwareInterface>
        </joint>
        <actuator name="br_elbow_joint_motor">
            <hardwareInterface>hardware_interface/PositionJointInterface</hardwareInterface>
            <mechanicalReduction>1</mechanicalReduction>
        </actuator>
    </transmission>
    
    
    
    
    <transmission name="br_trans_wrist_joint">
        <type>transmission_interface/SimpleTransmission</type>
        <joint name="br_wrist_joint">
            <hardwareInterface>hardware_interface/PositionJointInterface</hardwareInterface>
            <hardwareInterface>hardware_interface/VelocityJointInterface</hardwareInterface>
        </joint>
        <actuator name="br_wrist_joint_motor">
          <hardwareInterface>hardware_interface/VelocityJointInterface</hardwareInterface>
            <hardwareInterface>hardware_interface/PositionJointInterface</hardwareInterface>
            <mechanicalReduction>1</mechanicalReduction>
        </actuator>
    </transmission>
    
    
    
    
    
    <transmission name="br_trans_hand_joint">
        <type>transmission_interface/SimpleTransmission</type>
        <joint name="br_hand_joint">
            <hardwareInterface>hardware_interface/VelocityJointInterface</hardwareInterface>
            <hardwareInterface>hardware_interface/PositionJointInterface</hardwareInterface>
        </joint>
        <actuator name="br_hand_joint_motor">
            <hardwareInterface>hardware_interface/PositionJointInterface</hardwareInterface>
            <hardwareInterface>hardware_interface/VelocityJointInterface</hardwareInterface>
            <mechanicalReduction>1</mechanicalReduction>
        </actuator>
    </transmission>
    
    
    
    
    <!-- <gazebo>
        <plugin name="gazebo_ros_control" filename="libgazebo_ros_control.so">
            <robotNamespace>/</robotNamespace>
        </plugin>
    </gazebo> -->
    
</robot>
